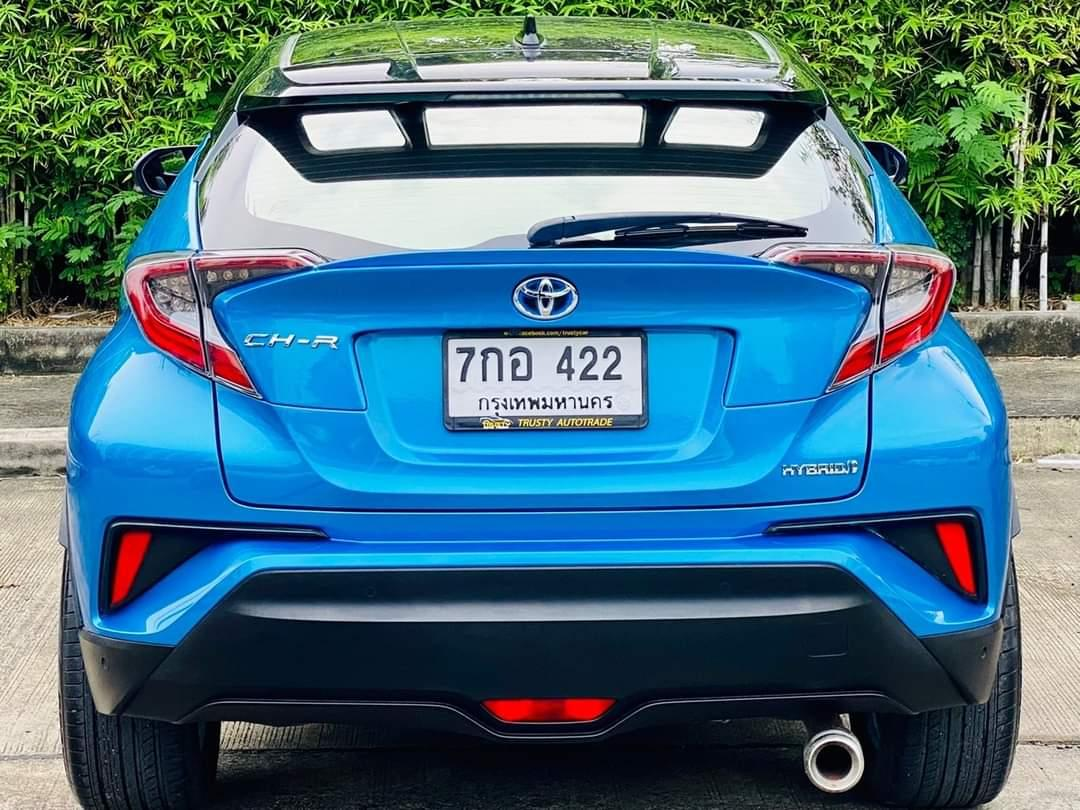license-plate: (444, 324, 653, 428)
